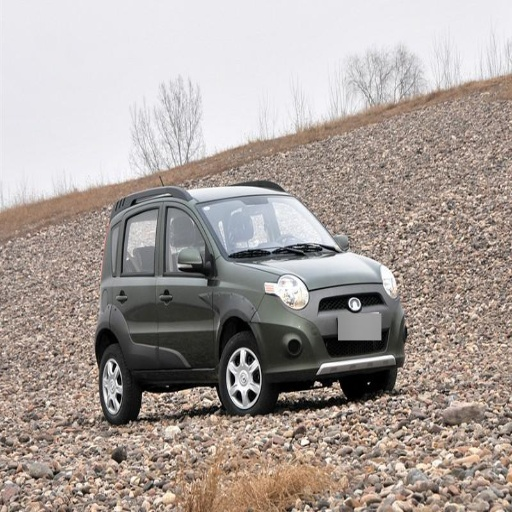front_bumper: (263, 283, 402, 379)
front_right_door: (156, 197, 213, 368)
